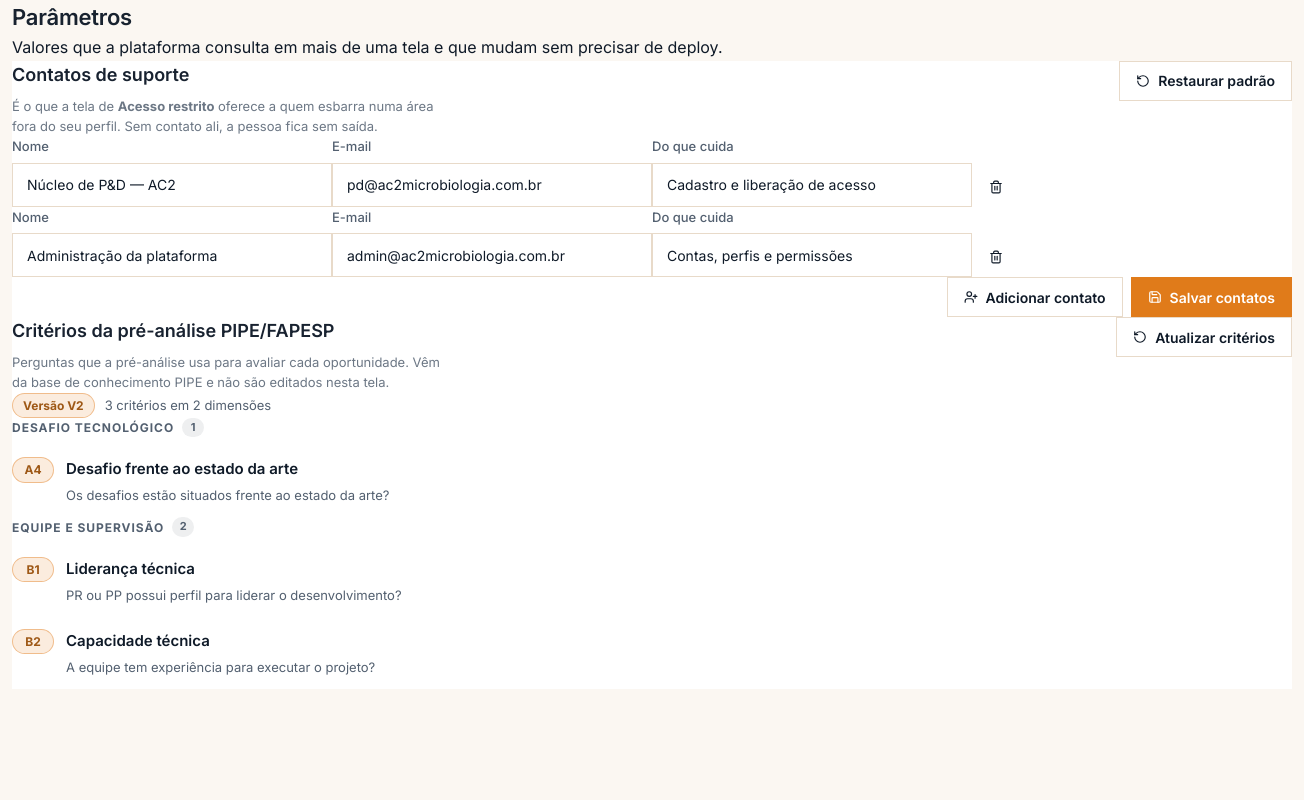
Scenario: ParametrosSection › grava no servidor, para valer na tela de acesso restrito de todos
The width and height of the screenshot is (1304, 800).
Replace the text in the 1st field showing "pd@ac2microbiologia.com.br" with "pesquisa@ac2microbiologia.com.br" at (492, 185), box [332,163,652,207]
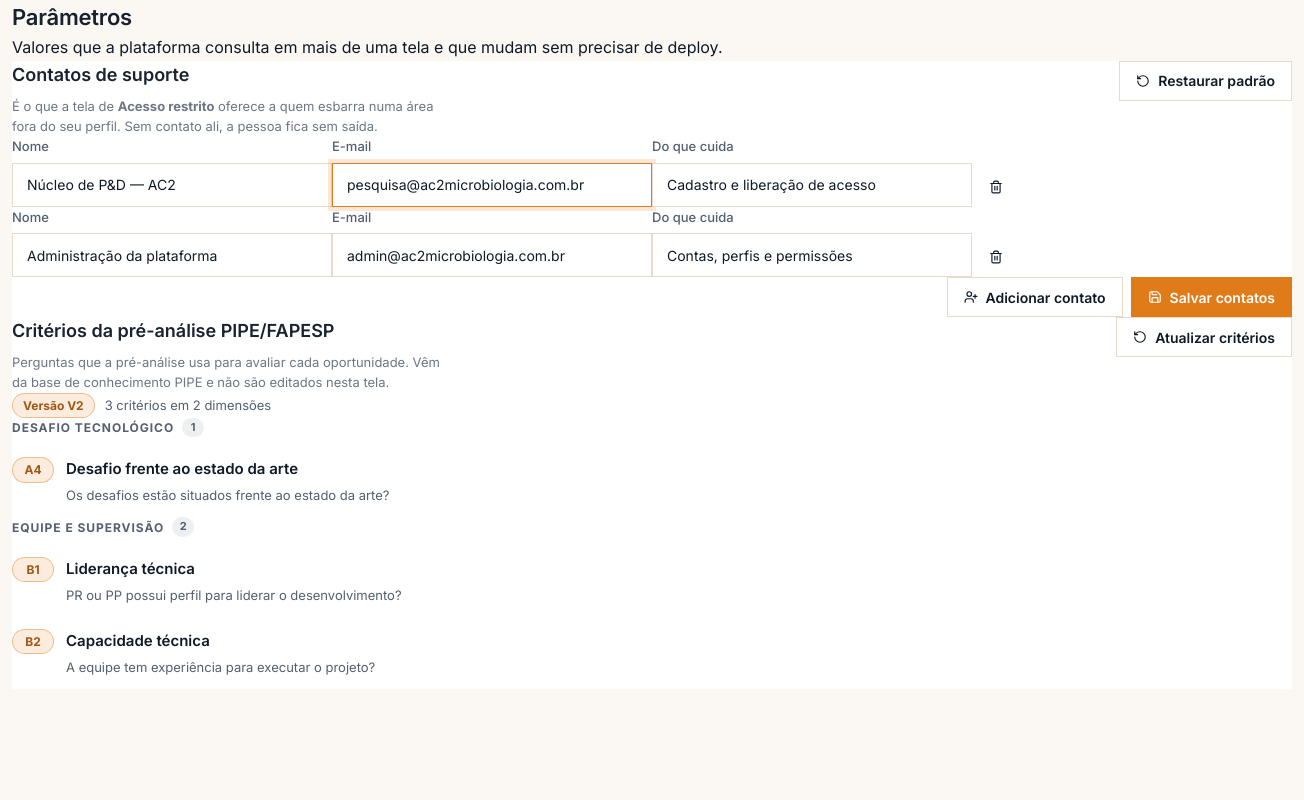
Click the button "Salvar contatos" at (1211, 298), box [1130,278,1292,318]
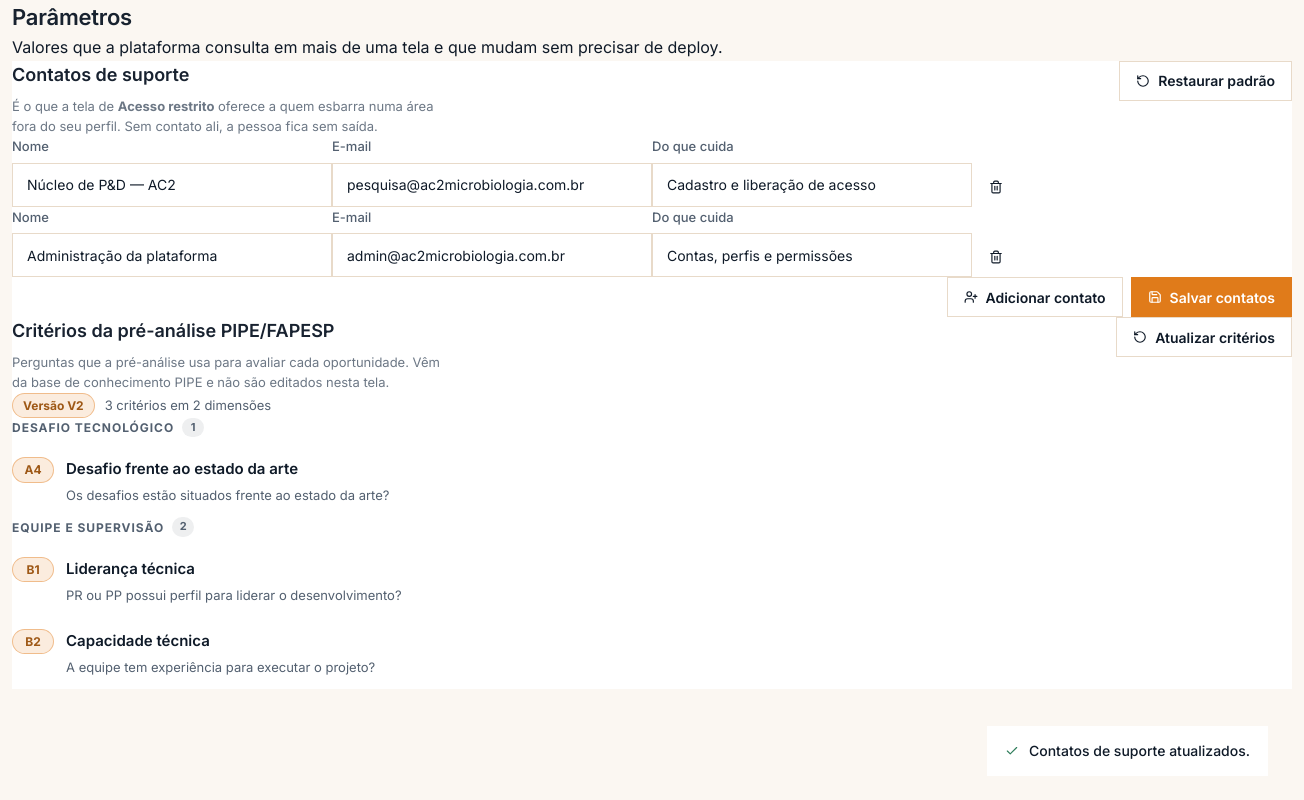
Result: the text "Contatos de suporte atualizados." is shown at [987,726,1268,776]
